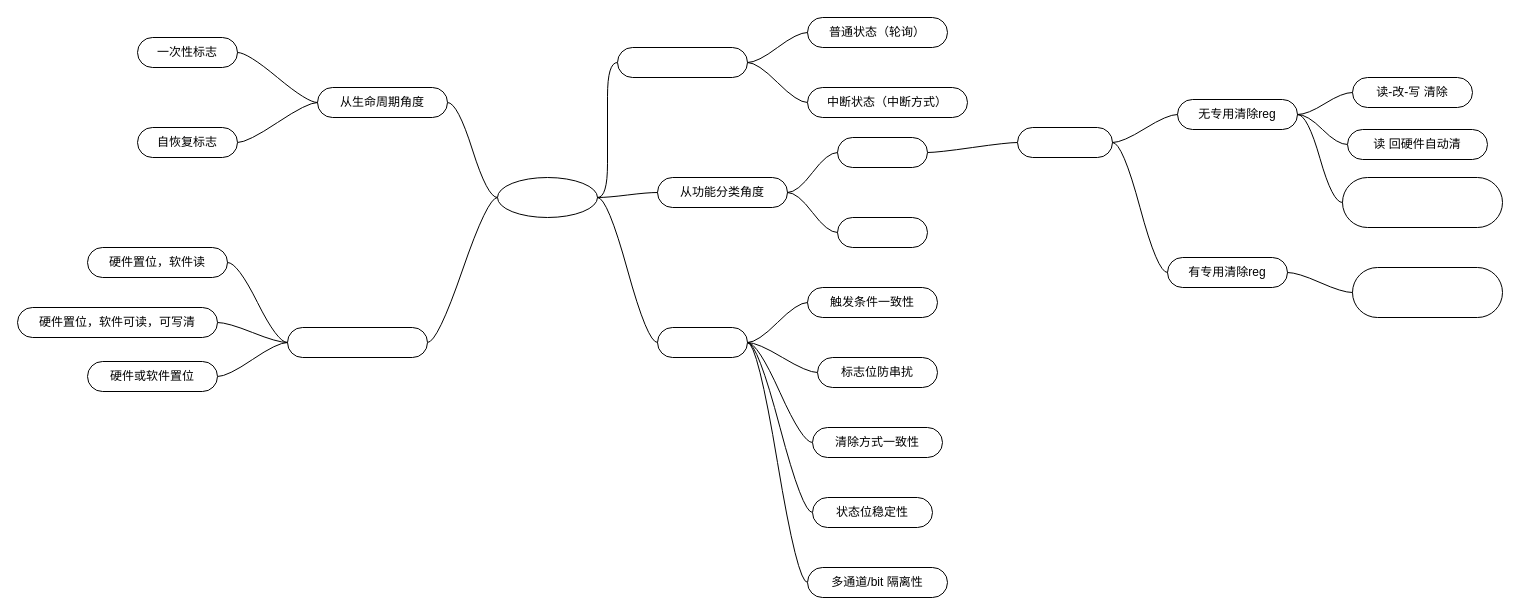
Image size: 1520x615. Some labels were removed from this diagram. The centre of each missing label's shape, as x and y in pixels:
"mask型 写“1”清，写“0”无影响" belongs at pixel 1422 202.
"mask型 本身寄存器无法写入" belongs at pixel 1427 292.
"从使用方式角度" belongs at pixel 682 62.
"从寄存器权限角度" belongs at pixel 357 342.
"完成指示" belongs at pixel 882 232.
"清除方式" belongs at pixel 1064 142.
"状态标志位" belongs at pixel 547 197.
"错误指示" belongs at pixel 882 152.
"验证要点" belongs at pixel 702 342.
